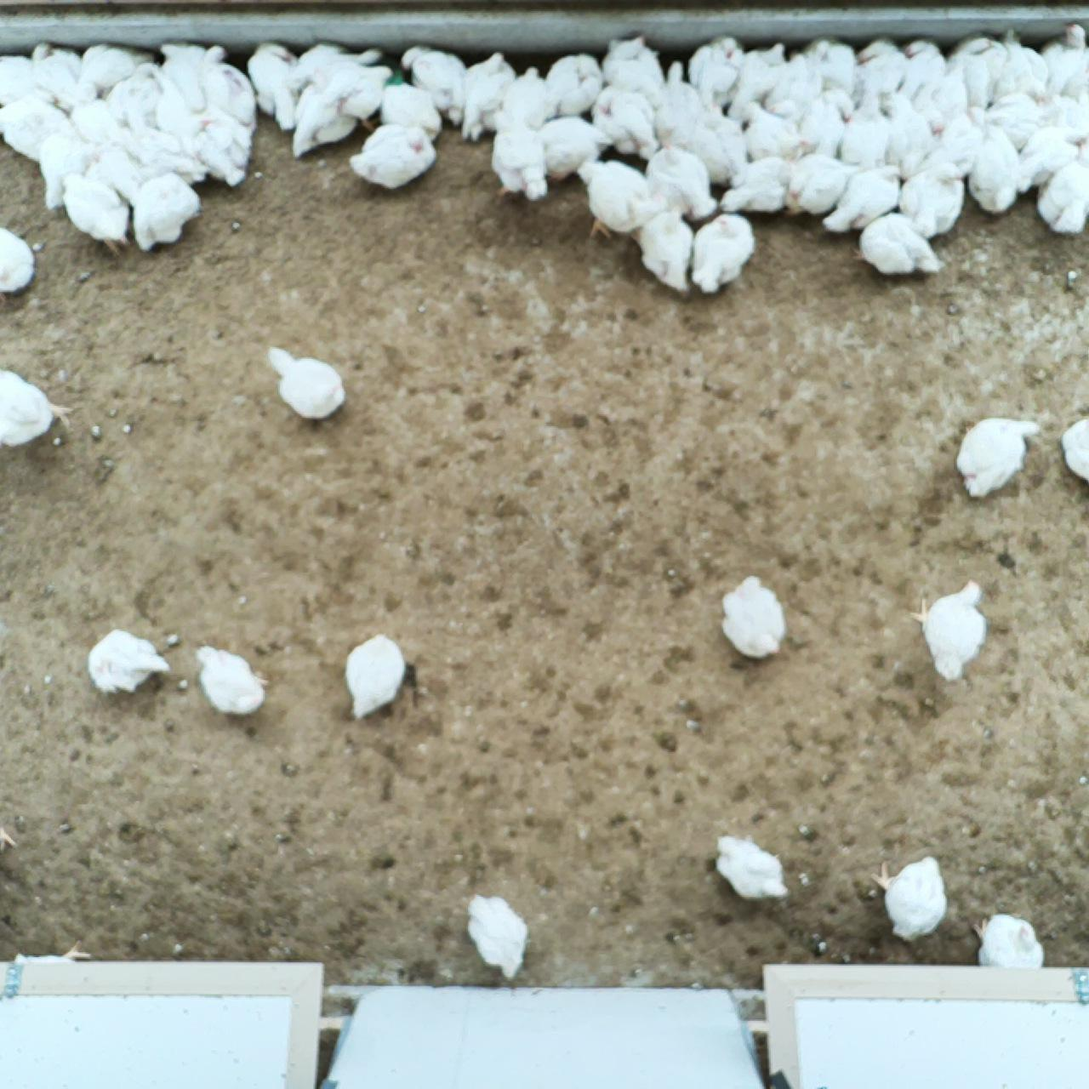chicken: (912, 577, 992, 685), (570, 154, 663, 245), (949, 411, 1038, 500), (719, 571, 797, 669), (847, 209, 947, 280), (872, 854, 948, 943), (641, 141, 721, 225), (123, 103, 206, 183), (263, 344, 348, 421), (58, 168, 131, 256), (530, 117, 616, 190), (398, 44, 470, 131), (821, 162, 903, 238), (0, 363, 74, 447), (346, 124, 438, 191), (488, 106, 551, 203), (310, 63, 396, 133), (247, 36, 306, 136), (133, 170, 204, 253), (464, 892, 530, 981), (193, 645, 271, 720), (631, 207, 697, 294), (344, 631, 409, 719), (896, 161, 967, 241), (1033, 138, 1089, 239), (650, 59, 710, 153), (460, 47, 518, 144), (689, 103, 755, 188), (198, 42, 261, 130), (714, 153, 802, 215), (288, 80, 357, 159), (89, 626, 168, 695), (713, 834, 793, 901), (966, 122, 1024, 214), (598, 33, 667, 110), (38, 121, 96, 212), (777, 151, 862, 213), (282, 42, 385, 93), (724, 42, 787, 125), (188, 110, 252, 191), (586, 84, 657, 157), (993, 24, 1056, 105), (761, 47, 824, 127), (802, 29, 864, 110), (691, 212, 754, 291), (948, 37, 1015, 111), (969, 909, 1047, 972), (0, 93, 71, 162), (59, 82, 132, 149), (1012, 128, 1089, 191), (536, 52, 605, 120), (81, 40, 156, 102), (880, 89, 930, 182), (914, 59, 972, 139), (684, 30, 741, 110), (490, 64, 557, 132), (374, 81, 443, 147), (979, 91, 1054, 151), (155, 38, 212, 111), (736, 100, 802, 163), (82, 136, 142, 204), (796, 88, 854, 158), (27, 41, 83, 109), (101, 62, 161, 125), (853, 40, 908, 108), (840, 93, 888, 168), (156, 73, 202, 150), (1037, 23, 1088, 92), (0, 50, 60, 106), (930, 113, 986, 172), (898, 40, 945, 105), (0, 220, 38, 298), (1048, 82, 1089, 133), (1063, 413, 1089, 487)
